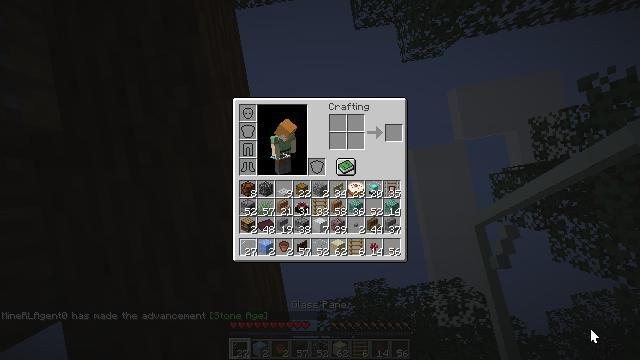cursor: (590, 328, 600, 344)
